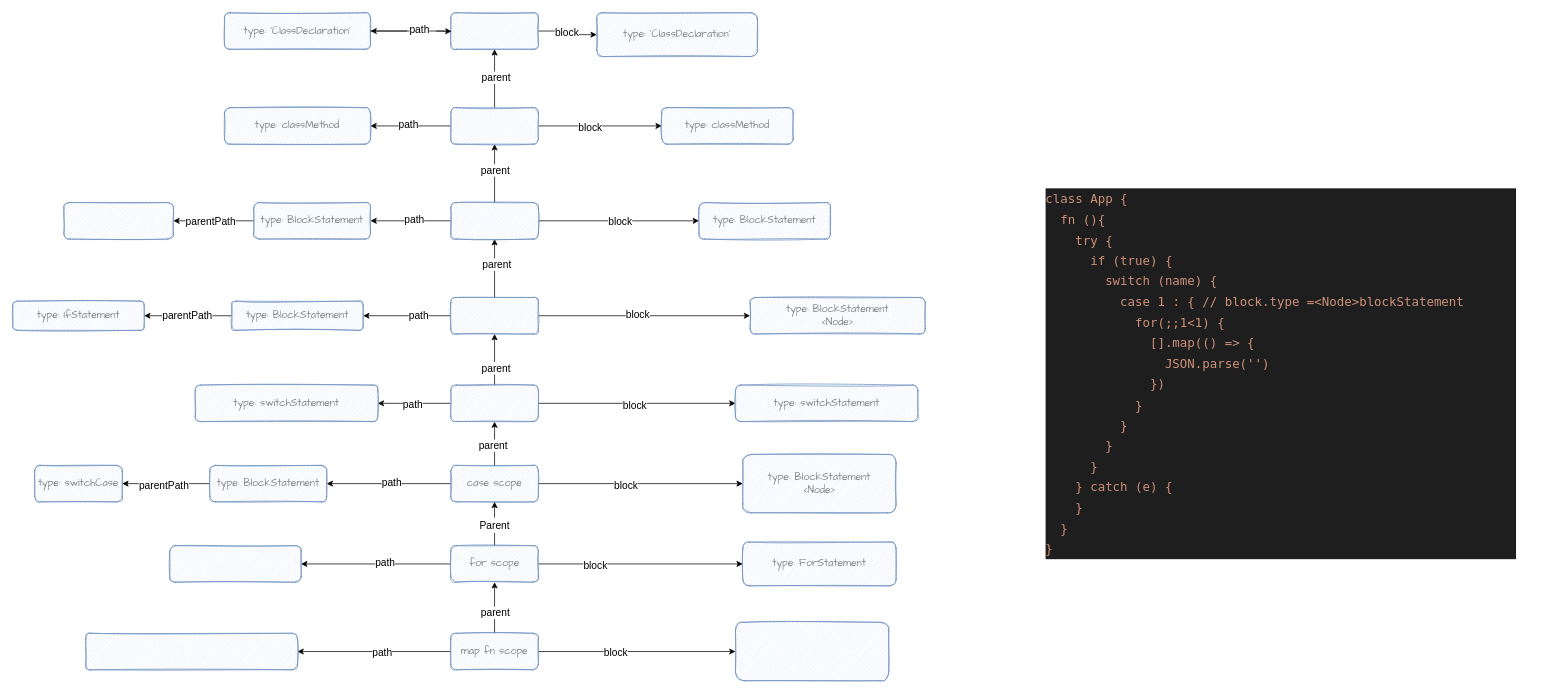
The diagram is 1551 pixels wide and 694 high, and some of its shapes have lost their labels. Each missing label, with the centre of its shape:
"class scope" belongs at point 494,30.
"fn scope" belongs at point 494,125.
"if scope" belongs at point 494,315.
"switch scope" belongs at point 494,403.
"try scope" belongs at point 494,220.
"type: ArrowFunctionExpression <Node>" belongs at point 812,651.
"type: ArrowFunctionExpression <NodePath>" belongs at point 191,651.
"type: TryStatement" belongs at point 118,220.
"type:ForStatement" belongs at point 235,563.
